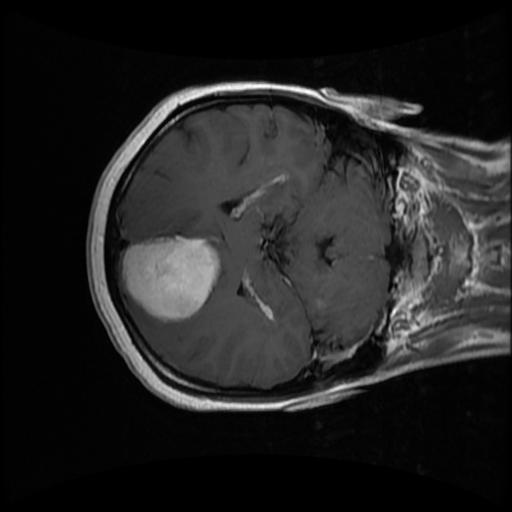meningioma: (120, 236, 223, 321)
